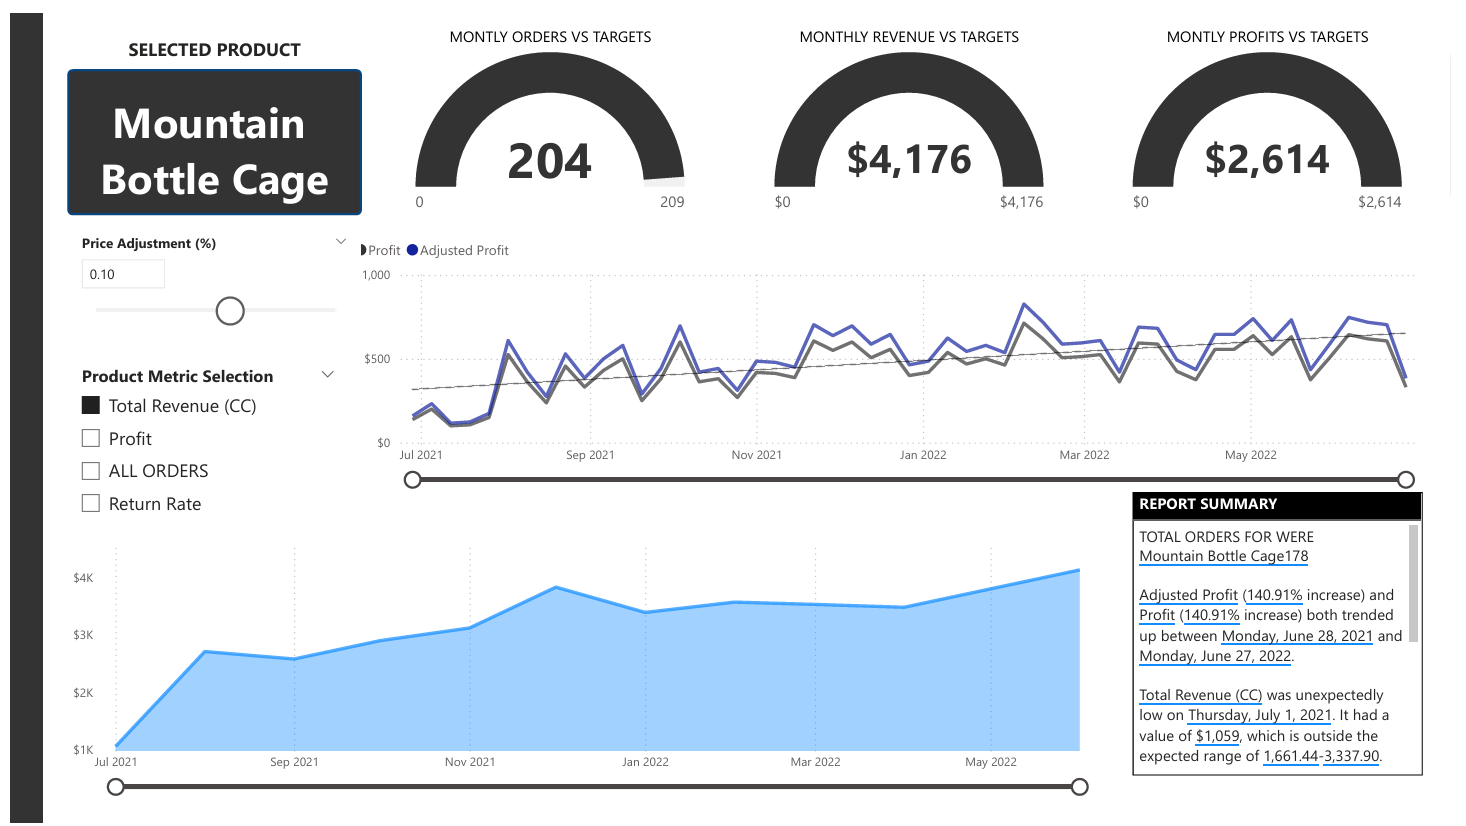

Layout of this report page (visuals, bound fields, positions):
{"tool":"powerbi","page":{"name":"PRODUCT DETAILS ","canvas":[1280,720],"ordinal":2},"visuals":[{"type":"shape","box":[0,0,28.6,720],"z":0},{"type":"gauge","title":"MONTLY ORDERS VS TARGETS","fields":{"Y":["Explicit Measure.Distinct Order"],"MaxValue":["Explicit Measure.Order Target"]},"box":[341.7,11.4,275.4,174.9],"z":1000},{"type":"gauge","title":"MONTHLY REVENUE VS TARGETS","fields":{"Y":["Explicit Measure.Revenue Target"],"MaxValue":["Explicit Measure.Revenue Target"]},"box":[660.6,11.4,275.4,174.9],"z":2000},{"type":"gauge","title":"MONTLY PROFITS VS TARGETS","fields":{"Y":["Explicit Measure.Profit Target"],"MaxValue":["Explicit Measure.Profit Target"]},"box":[979.4,11.4,275.4,174.9],"z":3000},{"type":"lineChart","title":"PROFIT TRENDING","fields":{"Category":["Calendar Lookup.DATE HIERARCHY.Start of Year","Calendar Lookup.DATE HIERARCHY.Start of Month","Calendar Lookup.DATE HIERARCHY.Start of Week","Calendar Lookup.DATE HIERARCHY.Date"],"Y":["Explicit Measure.Profit","Explicit Measure.Adjusted Profit"]},"box":[299.6,190,969,235.2],"z":4000},{"type":"areaChart","title":"RETURNS TRENDING","fields":{"Y":["Explicit Measure.Total Revenue (CC)"],"Category":["Calendar Lookup.DATE HIERARCHY.Start of Year","Calendar Lookup.DATE HIERARCHY.Start of Month","Calendar Lookup.DATE HIERARCHY.Start of Week","Calendar Lookup.DATE HIERARCHY.Date"]},"box":[49.7,461.3,929.4,236.3],"z":5000},{"type":"card","fields":{"Values":["Min(Product Lookup.ProductName)"]},"box":[50.3,49.1,261.7,130.3],"z":6000},{"type":"textbox","box":[50.3,14.9,261.7,34.3],"z":7000},{"type":"slicer","fields":{"Values":["Price Adjustment (%).Price Adjustment (%)"]},"box":[49.7,190,261.2,111.9],"z":8000},{"type":"slicer","fields":{"Values":["Product Metric Selection.Product Metric Selection"]},"box":[49.7,306.4,249.9,167.3],"z":9000},{"type":"textbox","title":"REPORT SUMMARY ","box":[997.2,425.1,257.8,252.1],"z":10000}]}

Visuals, with their boxes in screenshot pixels (x1, y1, x2, y2), scaled from the page's 1280x720 canvas onto the 1466x826 screenshot:
shape: BBox(0, 0, 33, 825)
"MONTLY ORDERS VS TARGETS" gauge: BBox(391, 13, 707, 214)
"MONTHLY REVENUE VS TARGETS" gauge: BBox(757, 13, 1072, 214)
"MONTLY PROFITS VS TARGETS" gauge: BBox(1122, 13, 1437, 214)
"PROFIT TRENDING" lineChart: BBox(343, 218, 1453, 488)
"RETURNS TRENDING" areaChart: BBox(57, 529, 1121, 800)
card - Min(Product Lookup.ProductName): BBox(58, 56, 357, 206)
textbox: BBox(58, 17, 357, 56)
slicer - Price Adjustment (%).Price Adjustment (%): BBox(57, 218, 356, 346)
slicer - Product Metric Selection.Product Metric Selection: BBox(57, 352, 343, 543)
"REPORT SUMMARY " textbox: BBox(1142, 488, 1437, 777)
